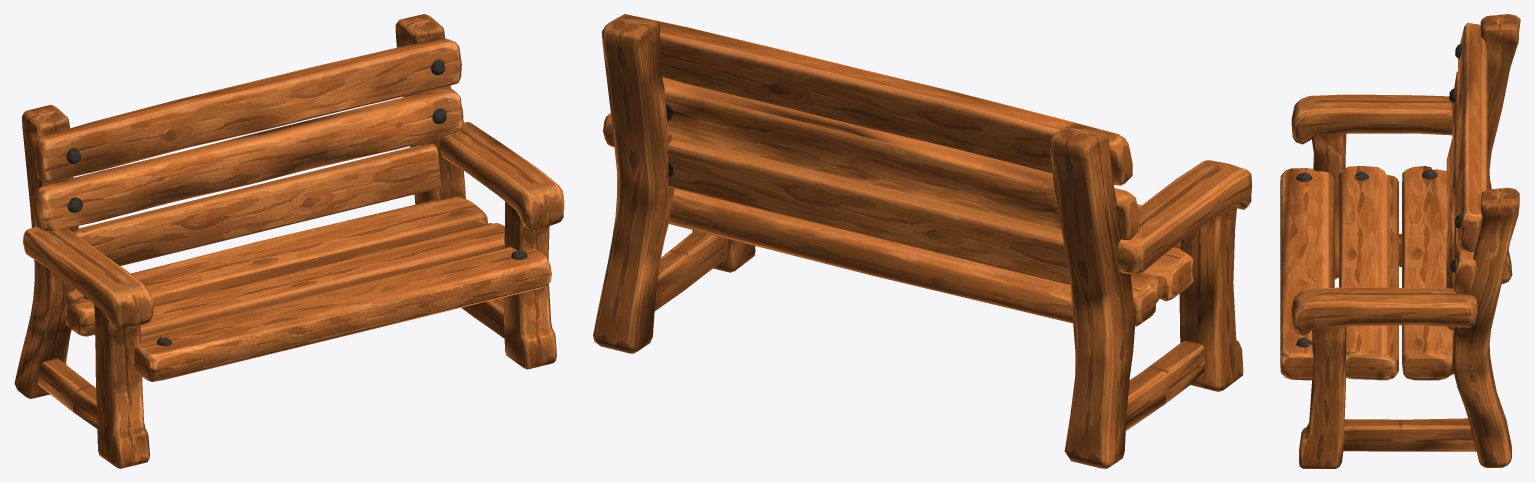
The model's file is wood_slat_bench.glb.
3 renders of one model, left to right at view 1: azimuth 30°, elevation 25°; view 2: azimuth 150°, elevation 25°; view 3: azimuth 270°, elevation 25°, orthographic. The views are drawn at different scales.
Parts seen in each view (by area): view 1: wood_slat_bench; view 2: wood_slat_bench; view 3: wood_slat_bench.
Part boxes in pixels (x1,y1,x2,y2): wood_slat_bench: (14,14,564,468); wood_slat_bench: (593,14,1251,468); wood_slat_bench: (1280,14,1520,468).
Size of the model in its own units: 1.46 by 0.85 by 0.7038.
1 material, 1 textured.
